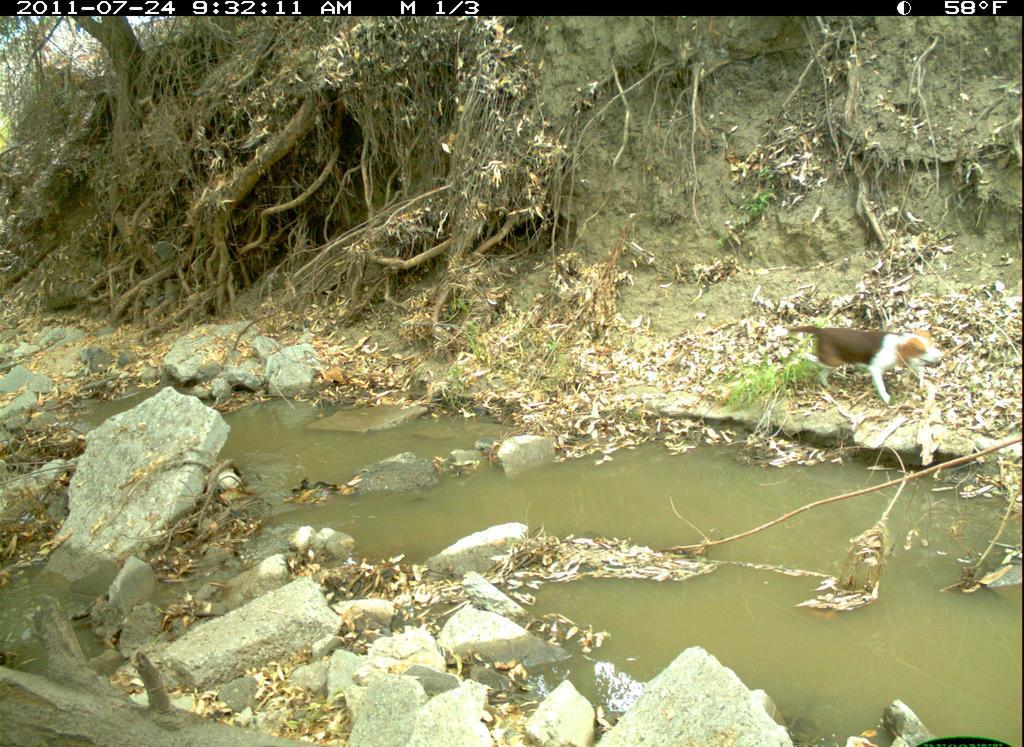dog: (772, 297, 955, 434)
